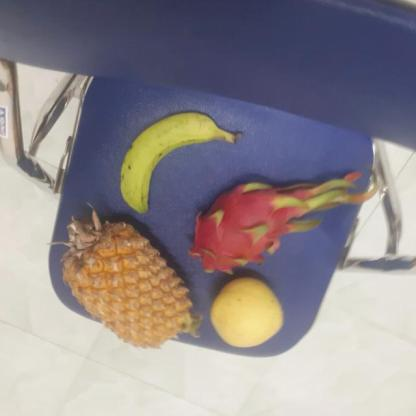banana: (121, 112, 241, 214)
pear: (208, 276, 286, 348)
pineapple: (66, 211, 202, 356)
pitaya: (192, 179, 296, 277)
